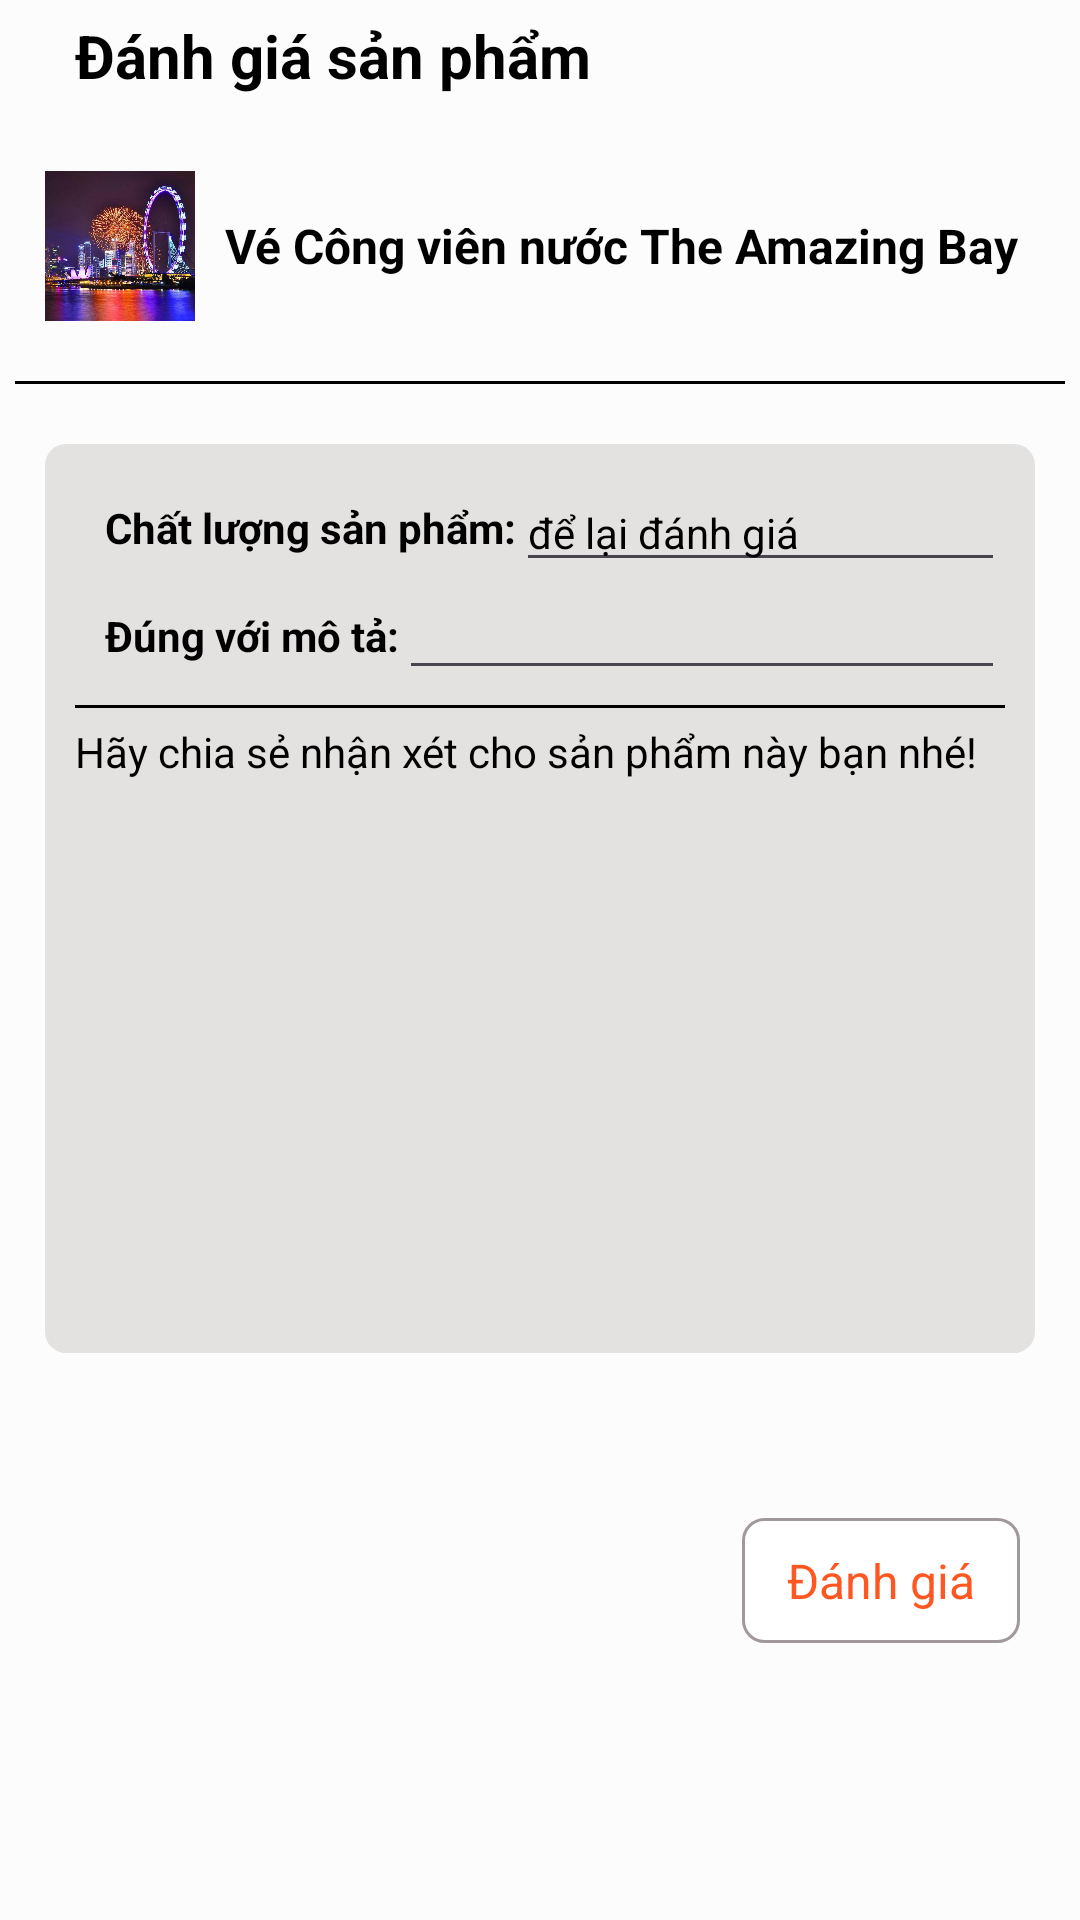

Locate icon controls on the screen. Image size 1080 × 1920, boxes as (x1,y1,x2,y2).
anh: (45,171,195,321)
